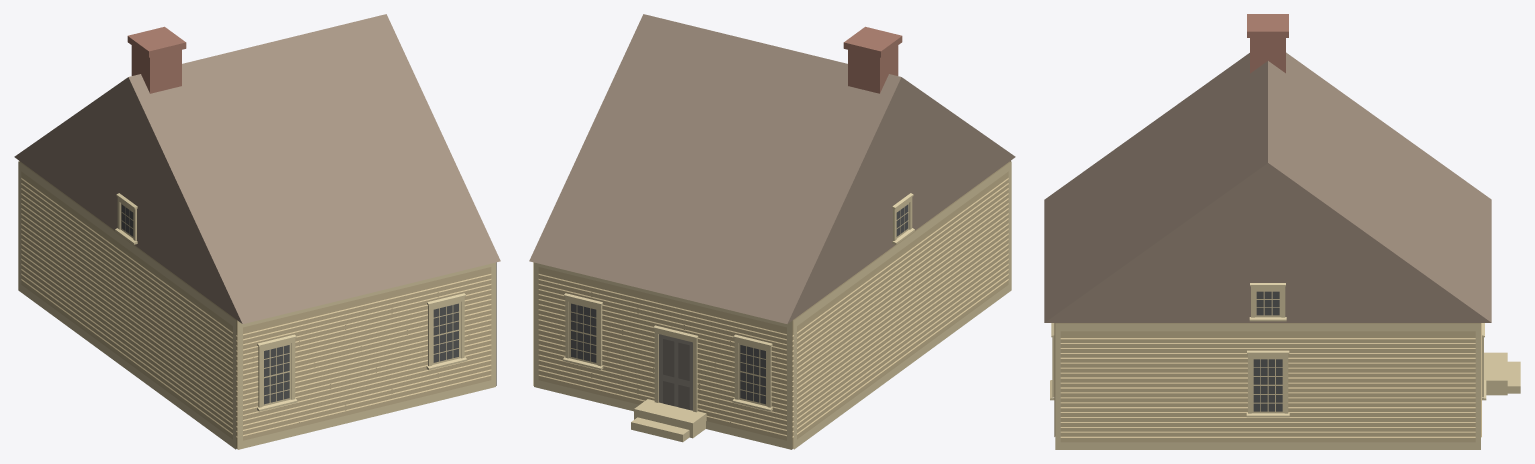
Rendered from recon_1835_north_d6_021__inferred_1835.glb.
3 views of the same model, side by side, from view 1: azimuth 30°, elevation 25°; view 2: azimuth 150°, elevation 25°; view 3: azimuth 270°, elevation 25° (orthographic). The views are drawn at different scales.
Visible parts, largest first — view 1: recon_1835_north_d6_021__inferred_1835; view 2: recon_1835_north_d6_021__inferred_1835; view 3: recon_1835_north_d6_021__inferred_1835.
Boxes of the visible parts, x1,y1,x2,y2 form: recon_1835_north_d6_021__inferred_1835: [14, 14, 500, 449]; recon_1835_north_d6_021__inferred_1835: [529, 14, 1015, 449]; recon_1835_north_d6_021__inferred_1835: [1044, 14, 1520, 449].
Size of the model in its own units: 7.03 by 8.15 by 11.1.
